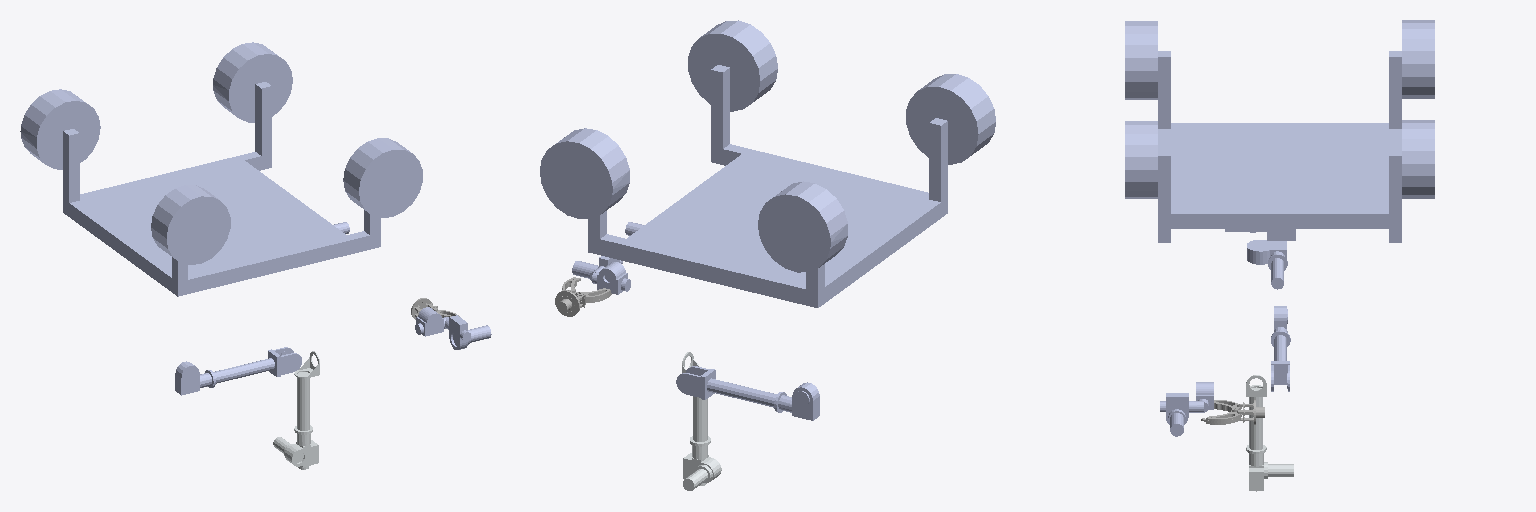
robot.urdf — arm_description:
<?xml version="1.0" encoding="utf-8"?>
<robot
  name="arm_description">
  
  <link
    name="base_link">
    <inertial>
      <origin
        xyz="0.784990805509548 0.637296392786603 0.699576535800332"
        rpy="0 0 0" />
      <mass
        value="92.1170480325152" />
      <inertia
        ixx="0"
        ixy="0"
        ixz="0"
        iyy="0"
        iyz="0"
        izz="0" />
    </inertial>
    <visual>
      <origin
        xyz="0 0 0"
        rpy="0 0 0" />
      <geometry>
        <mesh
          filename="package://arm_description/meshes/base_link.STL" />
      </geometry>
      <material
        name="">
        <color
          rgba="0.792156862745098 0.819607843137255 0.933333333333333 1" />
      </material>
    </visual>
    <collision>
      <origin
        xyz="0 0 0"
        rpy="0 0 0" />
      <geometry>
        <mesh
          filename="package://arm_description/meshes/base_link.STL" />
      </geometry>
    </collision>
  </link>
  
  <link
    name="link1">
    <inertial>
      <origin
        xyz="0.0395053712709794 0.00770230909756575 0.0284292729379571"
        rpy="0 0 0" />
      <mass
        value="0.990792255330962" />
      <inertia
        ixx="0"
        ixy="0"
        ixz="0"
        iyy="0"
        iyz="0"
        izz="0" />
    </inertial>
    <visual>
      <origin
        xyz="0 0 0"
        rpy="0 0 0" />
      <geometry>
        <mesh
          filename="package://arm_description/meshes/link1.STL" />
      </geometry>
      <material
        name="">
        <color
          rgba="0.792156862745098 0.819607843137255 0.933333333333333 1" />
      </material>
    </visual>
    <collision>
      <origin
        xyz="0 0 0"
        rpy="0 0 0" />
      <geometry>
        <mesh
          filename="package://arm_description/meshes/link1.STL" />
      </geometry>
    </collision>
  </link>
  
  <joint
    name="joint1"
    type="revolute">
    <origin
      xyz="1.11809345478857 -0.671499228198899 0.352488805901295"
      rpy="-1.5707963267949 0 3.14159265358979" />
    <parent
      link="base_link" />
    <child
      link="link1" />
    <axis
      xyz="0 0 0" />
    <limit
      lower="-3.14"
      upper="3.14"
      effort="100"
      velocity="20" />
  </joint>
  
  <link
    name="link2">
    <inertial>
      <origin
        xyz="0.207915471479058 -0.0204954389839018 0.0248850102166089"
        rpy="0 0 0" />
      <mass
        value="1.56702644768336" />
      <inertia
        ixx="0"
        ixy="0"
        ixz="0"
        iyy="0"
        iyz="0"
        izz="0" />
    </inertial>
    <visual>
      <origin
        xyz="0 0 0"
        rpy="0 0 0" />
      <geometry>
        <mesh
          filename="package://arm_description/meshes/link2.STL" />
      </geometry>
      <material
        name="">
        <color
          rgba="0.792156862745098 0.819607843137255 0.933333333333333 1" />
      </material>
    </visual>
    <collision>
      <origin
        xyz="0 0 0"
        rpy="0 0 0" />
      <geometry>
        <mesh
          filename="package://arm_description/meshes/link2.STL" />
      </geometry>
    </collision>
  </link>
  
  <joint
    name="joint2"
    type="revolute">
    <origin
      xyz="-0.0120242146656717 0.536975785334328 0.0579565358894426"
      rpy="3.14159265358979 0 -1.5707963267949" />
    <parent
      link="link1" />
    <child
      link="link2" />
    <axis
      xyz="0 0 0" />
    <limit
      lower="-3.14"
      upper="3.14"
      effort="100"
      velocity="20" />
  </joint>
  
  <link
    name="link3">
    <inertial>
      <origin
        xyz="0.0103146450264884 0.00463587622434214 -0.253568156076182"
        rpy="0 0 0" />
      <mass
        value="4.49311908049434" />
      <inertia
        ixx="0.011285085138619"
        ixy="-5.8451240418789E-05"
        ixz="0.000418543816314045"
        iyy="0.0110850262405422"
        iyz="0.00154585606360207"
        izz="0.000231710493344002" />
    </inertial>
    <visual>
      <origin
        xyz="0 0 0"
        rpy="0 0 0" />
      <geometry>
        <mesh
          filename="package://arm_description/meshes/link3.STL" />
      </geometry>
      <material
        name="">
        <color
          rgba="0.898039215686275 0.917647058823529 0.929411764705882 1" />
      </material>
    </visual>
    <collision>
      <origin
        xyz="0 0 0"
        rpy="0 0 0" />
      <geometry>
        <mesh
          filename="package://arm_description/meshes/link3.STL" />
      </geometry>
    </collision>
  </link>
  
  <joint
    name="joint3"
    type="revolute">
    <origin
      xyz="0.0173266017706057 0.0706491835637237 -0.0599999999999999"
      rpy="-1.5707963267949 0 3.14159265358979" />
    <parent
      link="link2" />
    <child
      link="link3" />
    <axis
      xyz="0 0 0" />
    <limit
      lower="-3.14"
      upper="3.14"
      effort="100"
      velocity="20" />
  </joint>
  
  <link
    name="link4">
    <inertial>
      <origin
        xyz="-0.0140455165710528 -0.127140183941276 0.0132073879549877"
        rpy="0 0 0" />
      <mass
        value="0.738531576468679" />
      <inertia
        ixx="0"
        ixy="0"
        ixz="0"
        iyy="0"
        iyz="0"
        izz="0" />
    </inertial>
    <visual>
      <origin
        xyz="0 0 0"
        rpy="0 0 0" />
      <geometry>
        <mesh
          filename="package://arm_description/meshes/link4.STL" />
      </geometry>
      <material
        name="">
        <color
          rgba="0.792156862745098 0.819607843137255 0.933333333333333 1" />
      </material>
    </visual>
    <collision>
      <origin
        xyz="0 0 0"
        rpy="0 0 0" />
      <geometry>
        <mesh
          filename="package://arm_description/meshes/link4.STL" />
      </geometry>
    </collision>
  </link>
  
  <joint
    name="joint4"
    type="revolute">
    <origin
      xyz="-0.139051207414672 0.0269999999998711 -0.500002721588281"
      rpy="-1.57079632679495 -1.38777878078144E-15 -3.14159265358979" />
    <parent
      link="link3" />
    <child
      link="link4" />
    <axis
      xyz="0 0 0" />
    <limit
      lower="-3.14"
      upper="3.14"
      effort="100"
      velocity="20" />
  </joint>
  
  <link
    name="link5">
    <inertial>
      <origin
        xyz="0.0766095654706823 0.0198118512247197 -0.0335271292413999"
        rpy="0 0 0" />
      <mass
        value="0.583439980133474" />
      <inertia
        ixx="0"
        ixy="0"
        ixz="0"
        iyy="0"
        iyz="0"
        izz="0" />
    </inertial>
    <visual>
      <origin
        xyz="0 0 0"
        rpy="0 0 0" />
      <geometry>
        <mesh
          filename="package://arm_description/meshes/link5.STL" />
      </geometry>
      <material
        name="">
        <color
          rgba="0.792156862745098 0.819607843137255 0.933333333333333 1" />
      </material>
    </visual>
    <collision>
      <origin
        xyz="0 0 0"
        rpy="0 0 0" />
      <geometry>
        <mesh
          filename="package://arm_description/meshes/link5.STL" />
      </geometry>
    </collision>
  </link>
  
  <joint
    name="joint5"
    type="revolute">
    <origin
      xyz="-0.00121372676860452 -0.136002721588221 -0.178639022428853"
      rpy="1.5707963267949 -1.5707963267949 0" />
    <parent
      link="link4" />
    <child
      link="link5" />
    <axis
      xyz="0 0 0" />
    <limit
      lower="-3.14"
      upper="3.14"
      effort="100"
      velocity="20" />
  </joint>
  
  <link
    name="link6">
    <inertial>
      <origin
        xyz="0.0149443387825755 0.039468715313824 0.0444532167608513"
        rpy="0 0 0" />
      <mass
        value="0.868249563215015" />
      <inertia
        ixx="0.00312646246030417"
        ixy="-2.30420803322864E-05"
        ixz="-1.26038502551463E-18"
        iyy="0.00151709665423134"
        iyz="-1.67461801803964E-16"
        izz="0.00457880133964684" />
    </inertial>
    <visual>
      <origin
        xyz="0 0 0"
        rpy="0 0 0" />
      <geometry>
        <mesh
          filename="package://arm_description/meshes/link6.STL" />
      </geometry>
      <material
        name="">
        <color
          rgba="0.752941176470588 0.752941176470588 0.752941176470588 1" />
      </material>
    </visual>
    <collision>
      <origin
        xyz="0 0 0"
        rpy="0 0 0" />
      <geometry>
        <mesh
          filename="package://arm_description/meshes/link6.STL" />
      </geometry>
    </collision>
  </link>
  
  <joint
    name="joint6"
    type="revolute">
    <origin
      xyz="0.118092239189695 0.0226342752571765 -0.135417585180578"
      rpy="-1.5707963267949 1.38777878078144E-15 1.5707963267949" />
    <parent
      link="link5" />
    <child
      link="link6" />
    <axis
      xyz="0 0 0" />
    <limit
      lower="-3.14"
      upper="3.14"
      effort="100"
      velocity="20" />
  </joint>

  <transmission name="tran1">
    <type>transmission_interface/SimpleTransmission</type>
    <joint name="joint1">
      <hardwareInterface>hardware_interface/EffortJointInterface</hardwareInterface>
    </joint>
    <actuator name="motor1">
      <hardwareInterface>hardware_interface/EffortJointInterface</hardwareInterface>
      <mechanicalReduction>1</mechanicalReduction>
    </actuator>
  </transmission>

  <transmission name="tran2">
    <type>transmission_interface/SimpleTransmission</type>
    <joint name="joint2">
      <hardwareInterface>hardware_interface/EffortJointInterface</hardwareInterface>
    </joint>
    <actuator name="motor2">
      <hardwareInterface>hardware_interface/EffortJointInterface</hardwareInterface>
      <mechanicalReduction>1</mechanicalReduction>
    </actuator>
  </transmission>

  <transmission name="tran3">
    <type>transmission_interface/SimpleTransmission</type>
    <joint name="joint3">
      <hardwareInterface>hardware_interface/EffortJointInterface</hardwareInterface>
    </joint>
    <actuator name="motor3">
      <hardwareInterface>hardware_interface/EffortJointInterface</hardwareInterface>
      <mechanicalReduction>1</mechanicalReduction>
    </actuator>
  </transmission>

  <transmission name="tran4">
    <type>transmission_interface/SimpleTransmission</type>
    <joint name="joint4">
      <hardwareInterface>hardware_interface/EffortJointInterface</hardwareInterface>
    </joint>
    <actuator name="motor4">
      <hardwareInterface>hardware_interface/EffortJointInterface</hardwareInterface>
      <mechanicalReduction>1</mechanicalReduction>
    </actuator>
  </transmission>

  <transmission name="tran5">
    <type>transmission_interface/SimpleTransmission</type>
    <joint name="joint5">
      <hardwareInterface>hardware_interface/EffortJointInterface</hardwareInterface>
    </joint>
    <actuator name="motor5">
      <hardwareInterface>hardware_interface/EffortJointInterface</hardwareInterface>
      <mechanicalReduction>1</mechanicalReduction>
    </actuator>
  </transmission>

  <transmission name="tran6">
    <type>transmission_interface/SimpleTransmission</type>
    <joint name="joint6">
      <hardwareInterface>hardware_interface/EffortJointInterface</hardwareInterface>
    </joint>
    <actuator name="motor6">
      <hardwareInterface>hardware_interface/EffortJointInterface</hardwareInterface>
      <mechanicalReduction>1</mechanicalReduction>
    </actuator>
  </transmission>

  <gazebo>
    <plugin name="gazebo_ros_control" filename="libgazebo_ros_control.so">
    </plugin>
  </gazebo>


</robot>

--- What the picture shows (computed from the rendered views, not written in the file) ---
The picture shows the robot from 3 angles, left to right: view 1: azimuth 30°, elevation 25°; view 2: azimuth 150°, elevation 25°; view 3: azimuth 270°, elevation 25°; orthographic projection.
Model arm_description with 7 links and 6 joints (6 revolute), rooted at base_link, posed all joints at 0.
Visible links, largest first — view 1: base_link, link2, link3, link4, link5; view 2: base_link, link2, link3, link6, link5; view 3: base_link, link3, link2, link1, link4, link6.
Boxes of the visible links, x1,y1,x2,y2 form: base_link: [20, 42, 422, 296]; link2: [175, 347, 301, 395]; link3: [273, 351, 319, 469]; link4: [445, 315, 491, 349]; link5: [415, 307, 445, 336]; base_link: [540, 20, 995, 307]; link2: [676, 366, 819, 420]; link3: [682, 352, 721, 490]; link6: [555, 277, 611, 316]; link5: [591, 262, 630, 294]; base_link: [1125, 20, 1434, 242]; link3: [1246, 375, 1293, 491]; link2: [1271, 306, 1290, 391]; link1: [1247, 240, 1287, 289]; link4: [1160, 393, 1203, 436]; link6: [1201, 399, 1264, 424].
Bounding box of the posed robot: 1.63 × 1.19 × 1.6 m (x, y, z).
Meshes: 7 distinct files referenced, 7 mesh visuals loaded (7 binary STL).